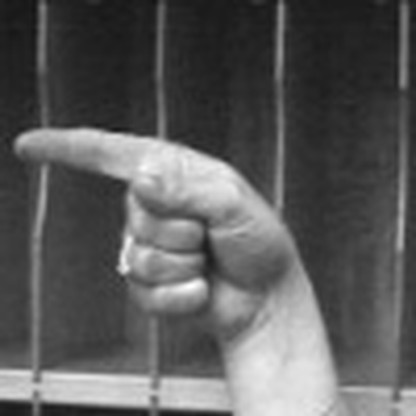g: (10, 122, 285, 324)
